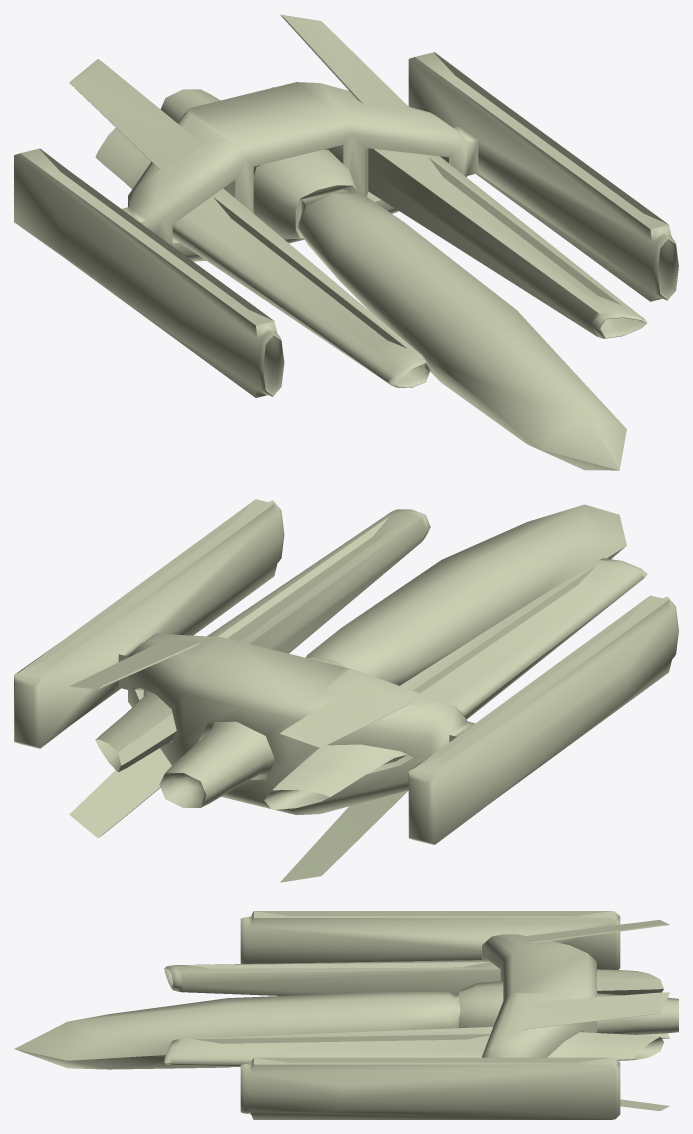
Rendered from fighter.obj.
3 renders of one model, top to bottom at view 1: azimuth 30°, elevation 25°; view 2: azimuth 150°, elevation 25°; view 3: azimuth 270°, elevation 25°, orthographic. The views are drawn at different scales.
Visible parts, largest first — view 1: Cube1; view 2: Cube1; view 3: Cube1.
Boxes of the visible parts, box(x1,y1,x2,y2) form: Cube1: box(14, 14, 678, 470); Cube1: box(14, 499, 678, 882); Cube1: box(14, 911, 678, 1119).
Size of the model in its own units: 0.3591 by 0.1143 by 0.6064.
